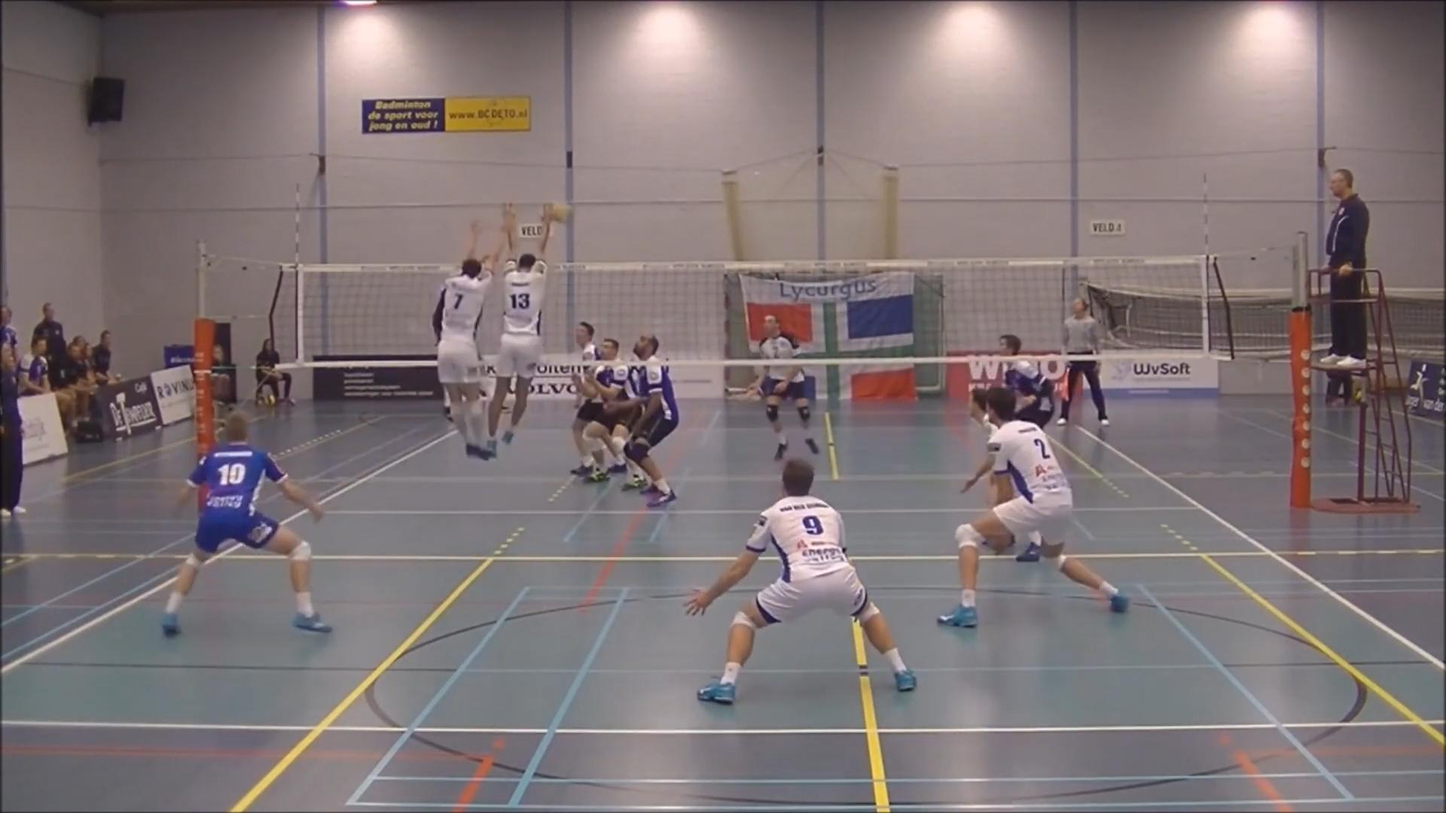Block: (401, 213, 508, 466), (482, 191, 556, 448)
Player: (686, 458, 916, 704), (938, 387, 1129, 626), (163, 412, 331, 635), (608, 336, 679, 507), (584, 340, 650, 490), (753, 315, 819, 460), (572, 321, 626, 481), (578, 338, 634, 482), (999, 334, 1054, 428), (970, 388, 996, 436)
ball: (549, 201, 573, 226)
